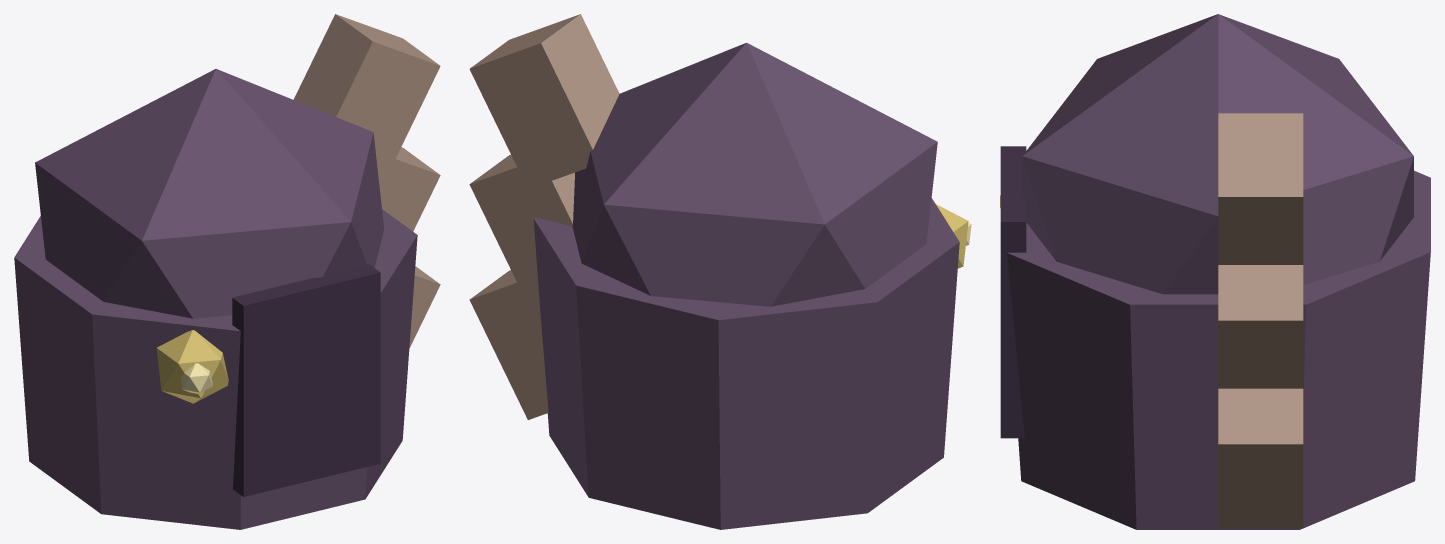
The model's file is inf_brute_lower_arm.fbx.
3 renders of one model, left to right at view 1: azimuth 30°, elevation 25°; view 2: azimuth 150°, elevation 25°; view 3: azimuth 270°, elevation 25°, orthographic. The views are drawn at different scales.
Parts seen in each view (by area): view 1: inf_brute_lower_arm; view 2: inf_brute_lower_arm; view 3: inf_brute_lower_arm.
Boxes of the visible parts, x1=… form: inf_brute_lower_arm: x1=14, y1=14, x2=440, y2=529; inf_brute_lower_arm: x1=469, y1=14, x2=971, y2=529; inf_brute_lower_arm: x1=1000, y1=14, x2=1430, y2=529.
Size of the model in its own units: 119 by 112 by 101.
